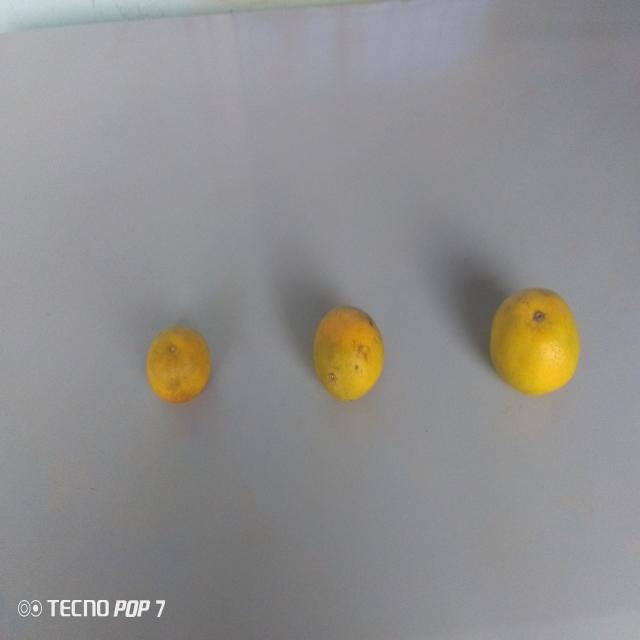agrume: (483, 285, 589, 407), (309, 301, 389, 405), (139, 320, 217, 409)
